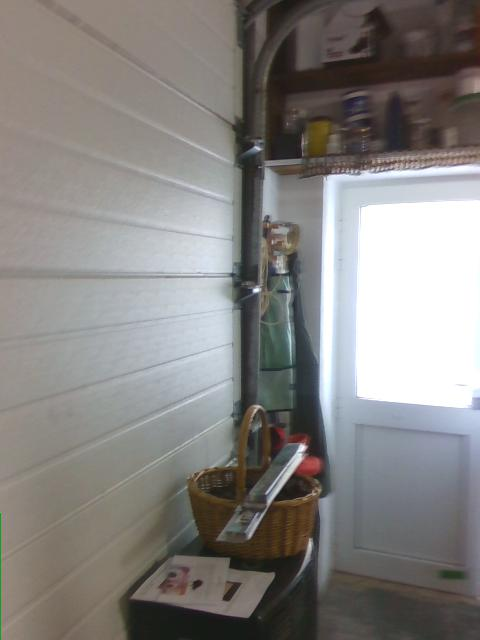closed_door: (318, 162, 479, 598)
